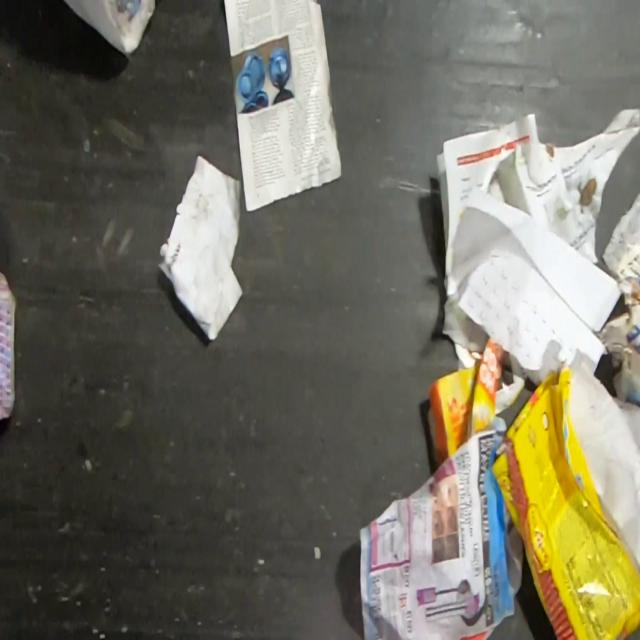cardboard: (487, 364, 640, 640)
